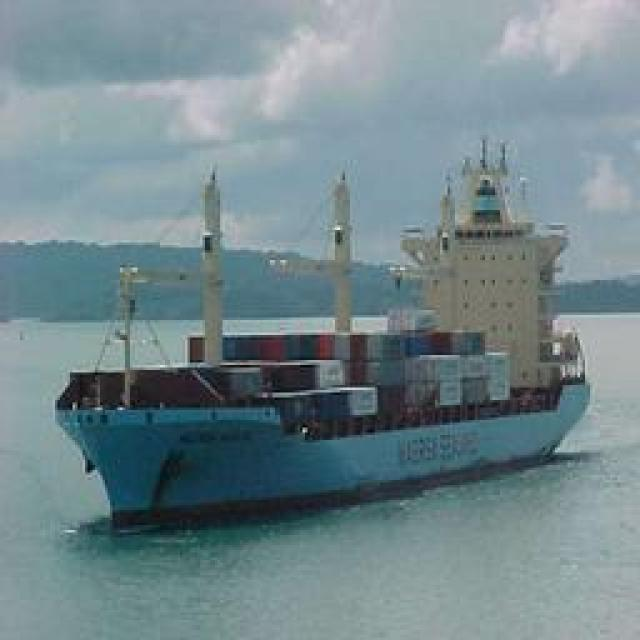CIV_Ship: (56, 118, 584, 538)
